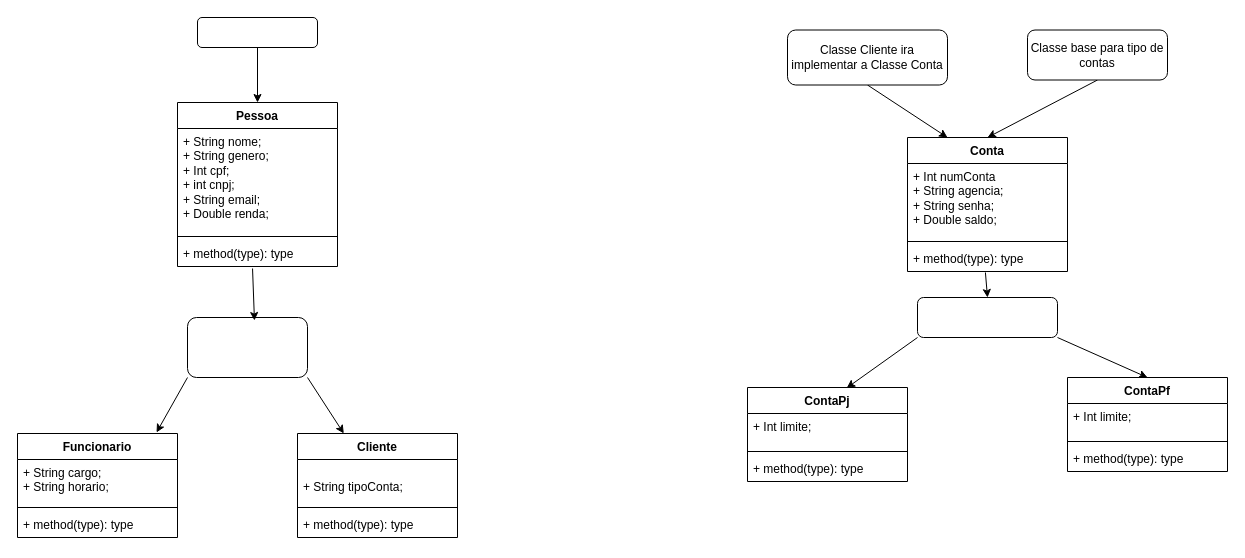
This 1245x558 diagram has some shape labels left out. Here are the shapes that lost their labels. From the top down, the centre of each, then its label:
At point (257, 32): "Classe base".
At point (987, 317): "Tipos de conta".
At point (247, 347): "Classes que herdam da classe pessoa".
